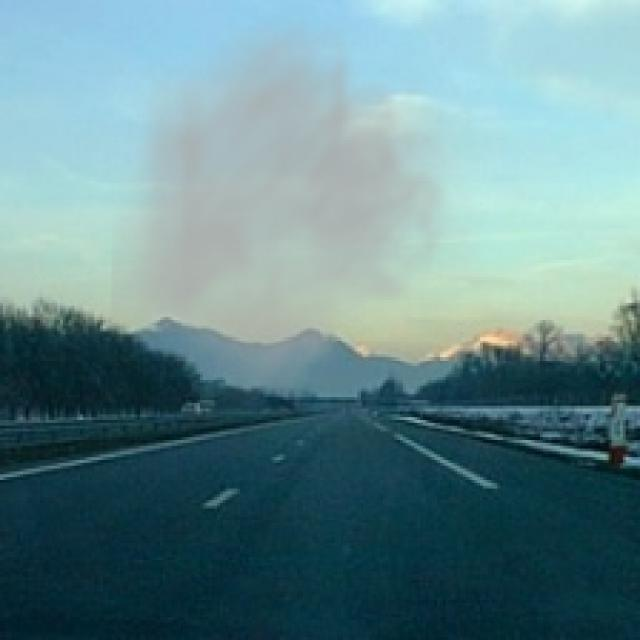Smoke: (111, 0, 489, 415)
